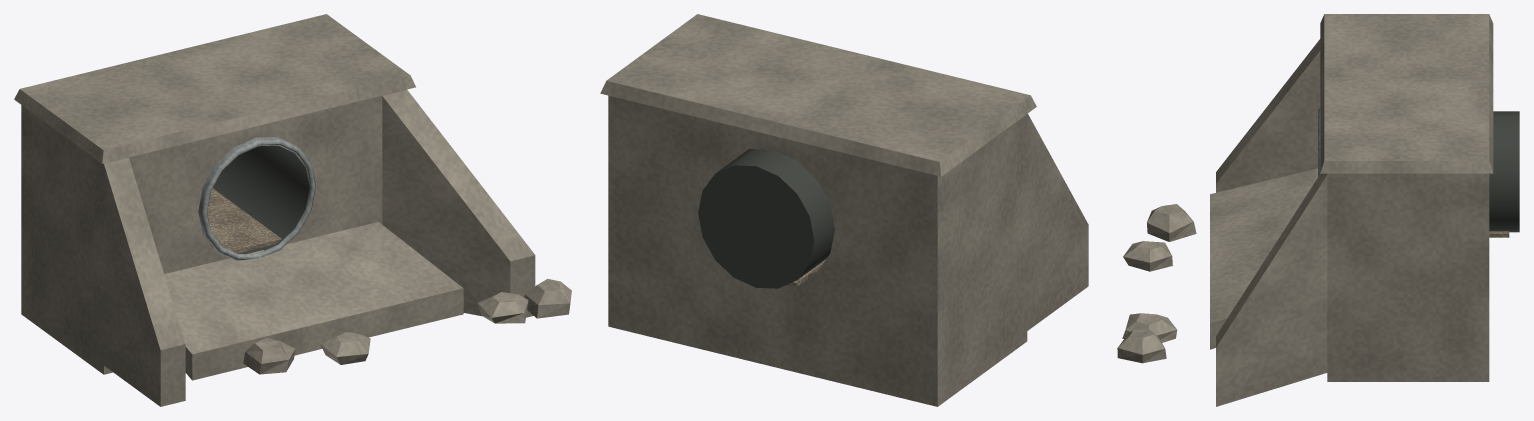
Rendered from SM_SubstationField_Culvert_LOD2.fbx.
3 renders of one model, left to right at view 1: azimuth 30°, elevation 25°; view 2: azimuth 150°, elevation 25°; view 3: azimuth 270°, elevation 25°, orthographic. The views are drawn at different scales.
Visible parts, largest first — view 1: SM_SubstationField_Culvert_LOD2; view 2: SM_SubstationField_Culvert_LOD2; view 3: SM_SubstationField_Culvert_LOD2.
Part boxes in pixels (box(x1,y1,x2,y2)): SM_SubstationField_Culvert_LOD2: box(14, 14, 571, 406); SM_SubstationField_Culvert_LOD2: box(600, 14, 1088, 406); SM_SubstationField_Culvert_LOD2: box(1117, 14, 1519, 406).
Bounding box in the file's own units: 2.13 × 1.99 × 1.21.
